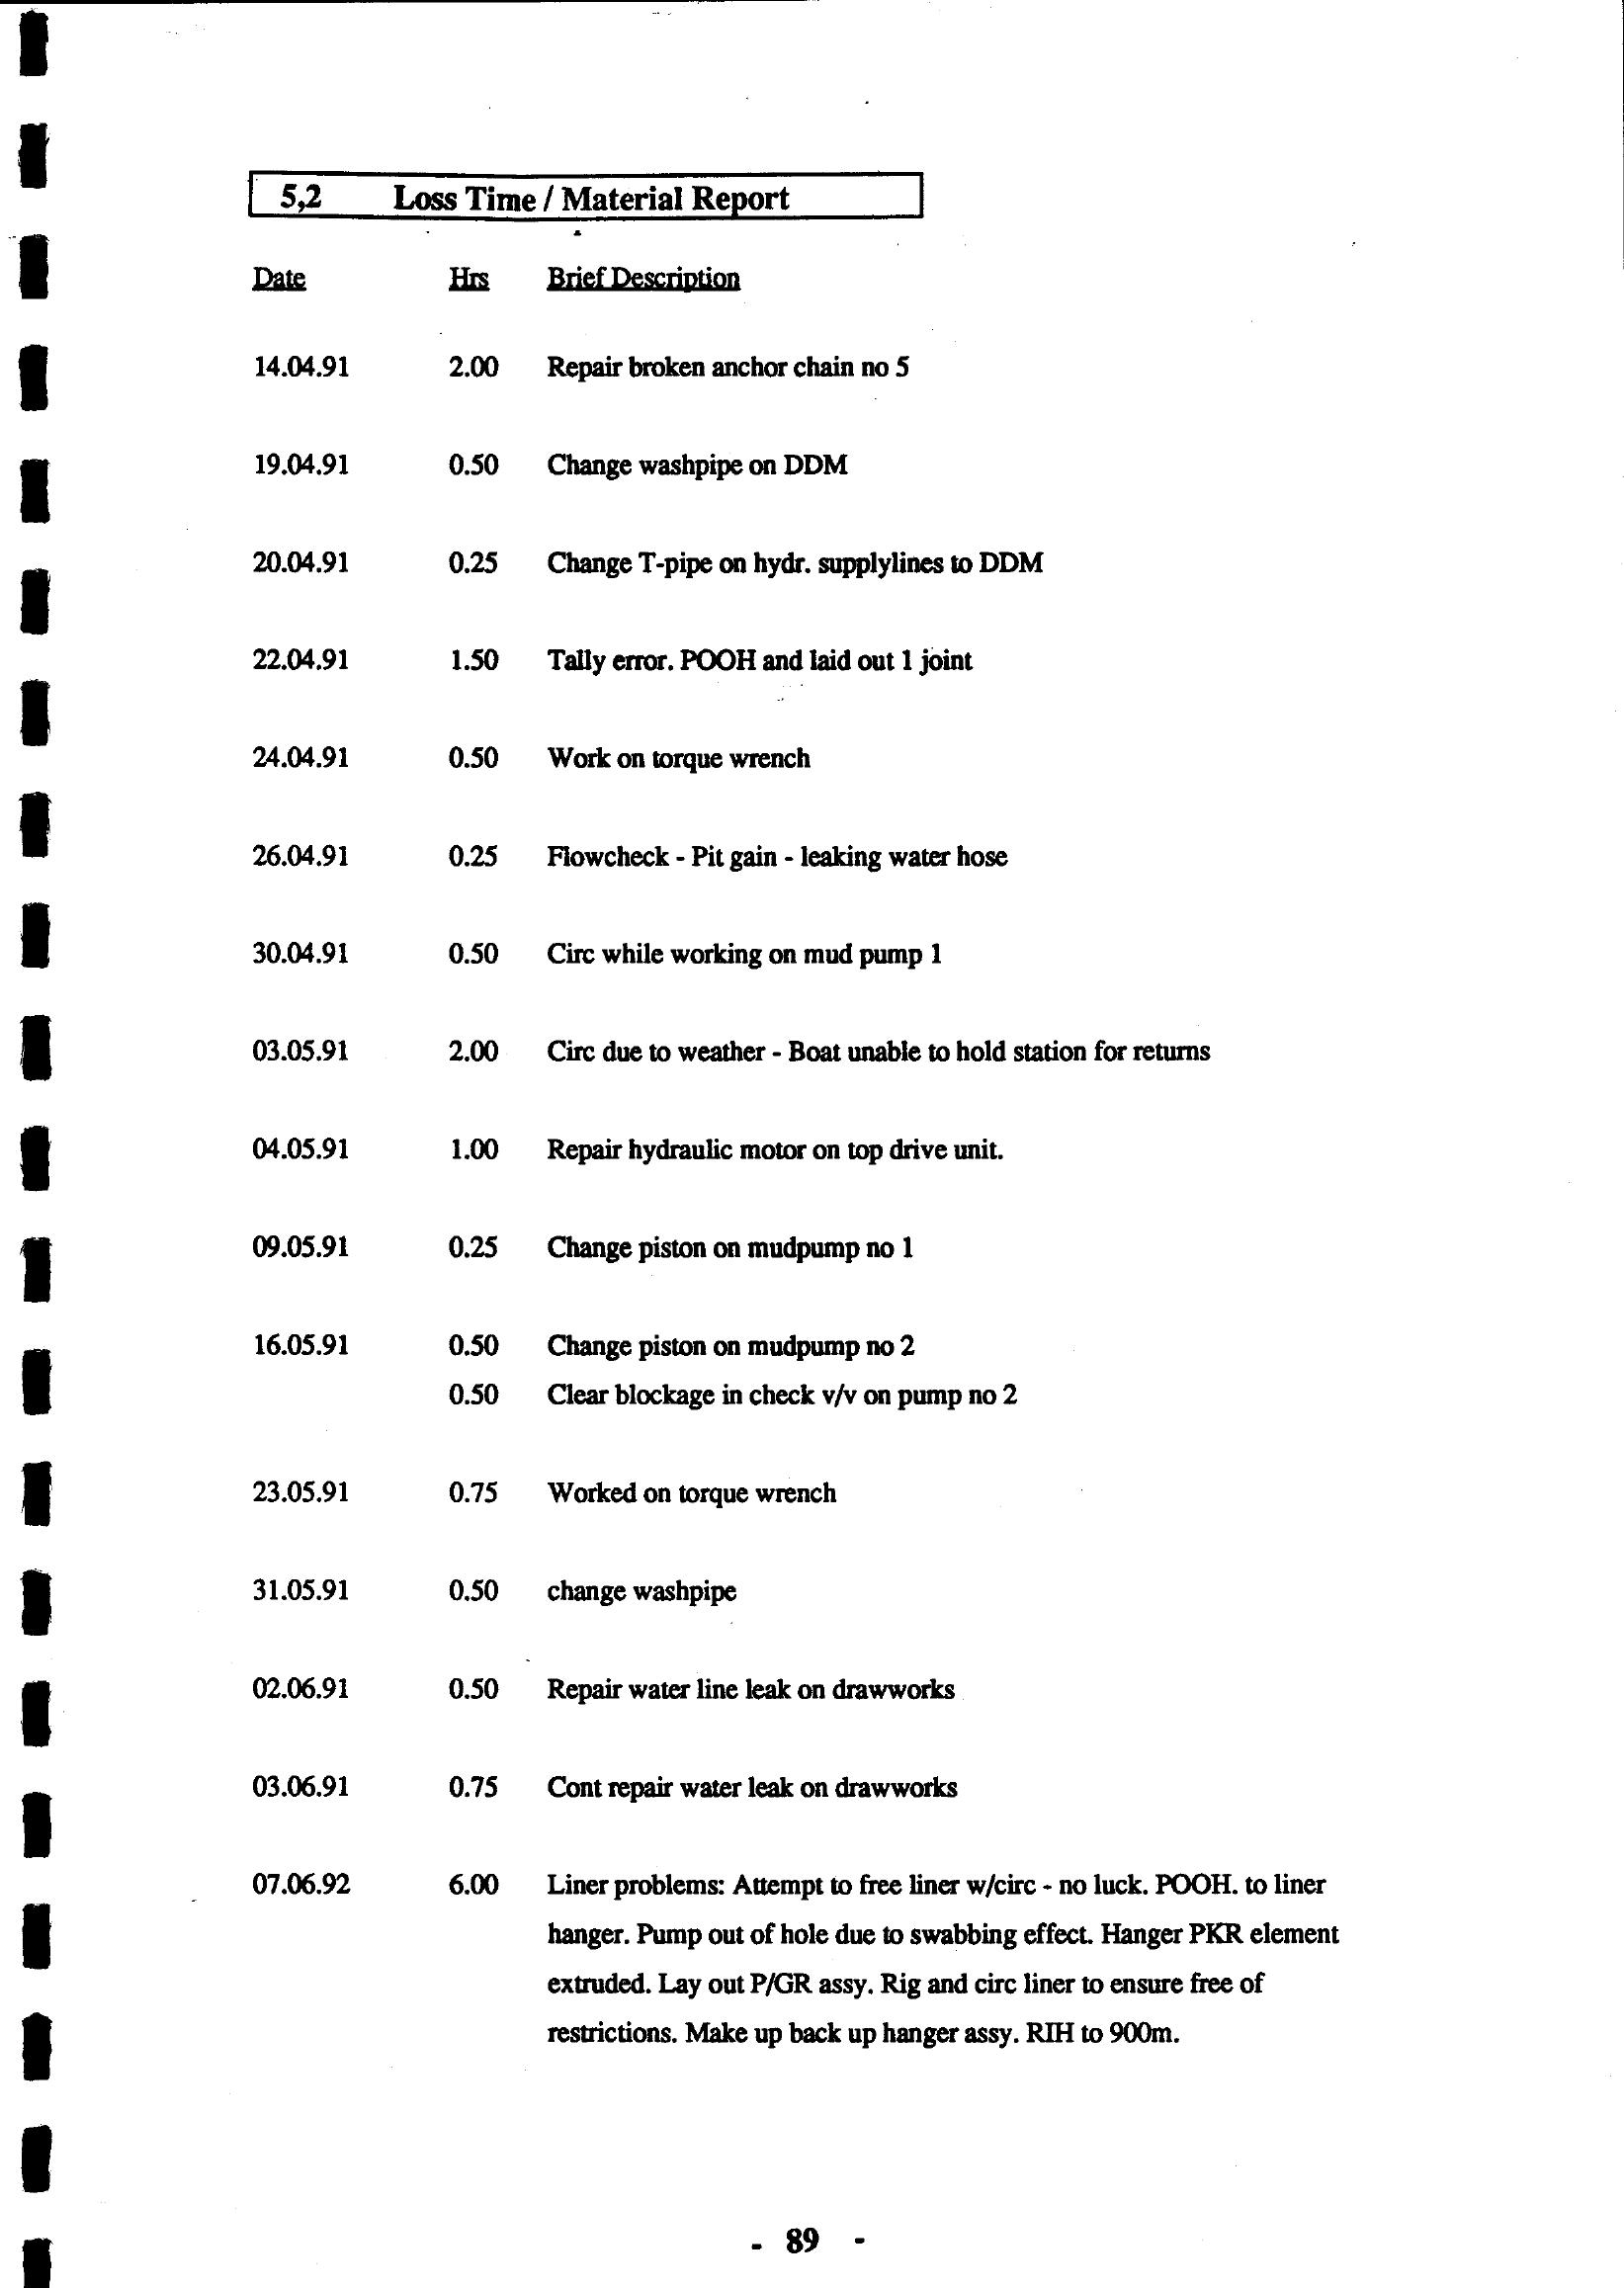table: (216, 141, 1415, 2105)
